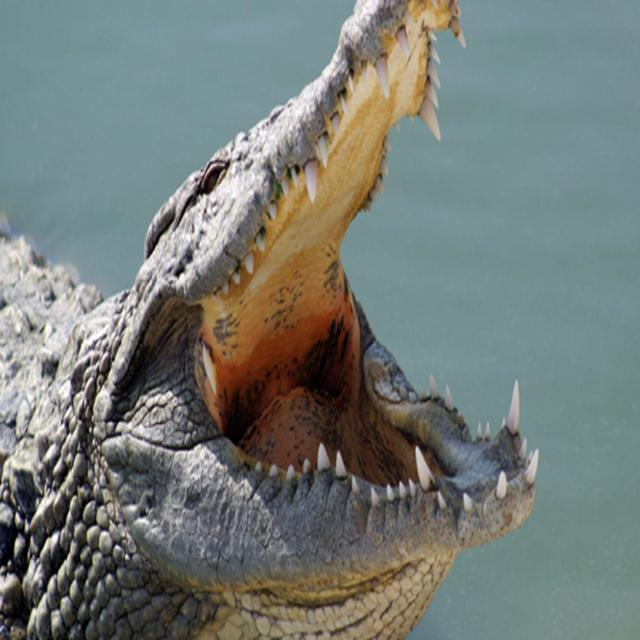crocodile: (0, 0, 620, 639)
